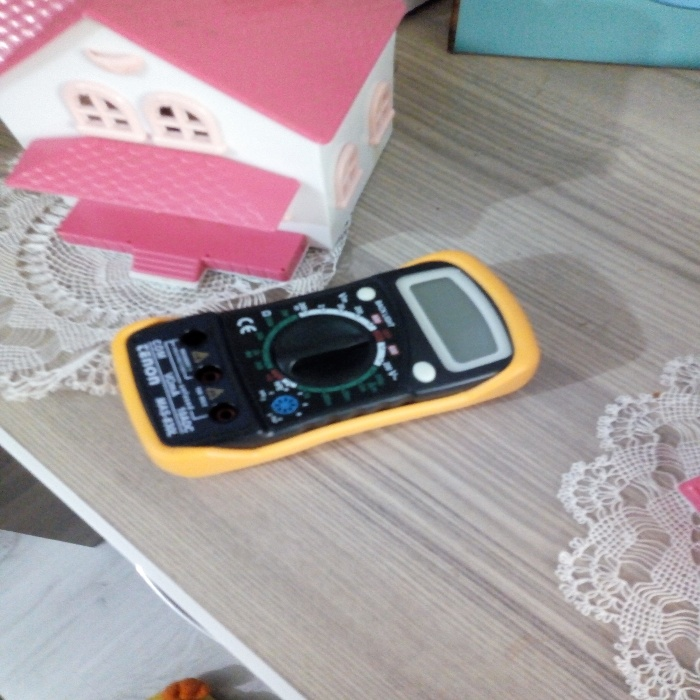multimetre: (93, 236, 576, 491)
